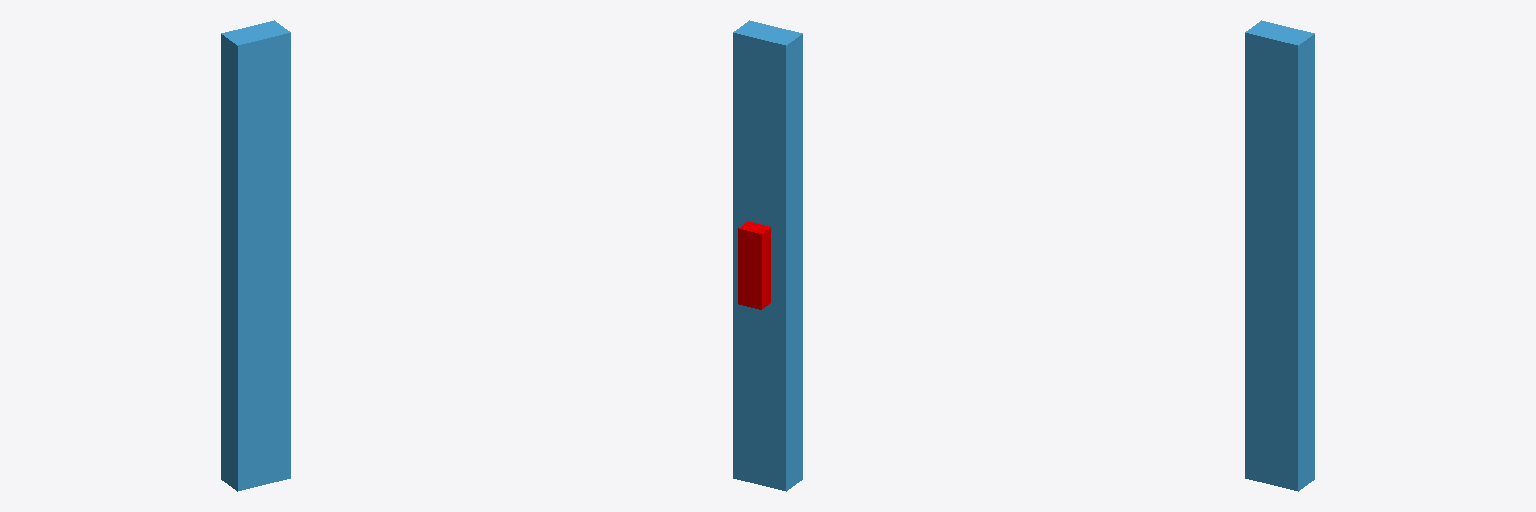
robot.urdf — knife:
<?xml version='1.0' encoding='utf-8'?>
<robot name="knife">
  <link name="link_1">
    <visual name="link_1">
      <origin xyz="0 0.007830 0" rpy="0 0 0" />
      <geometry>
        <box size="0.007959396628982467 0.005813232707844232 0.024876041222511008" /></geometry>
    <material name="red"><color rgba="1 0 0 1" /></material></visual>
    <collision>
      <origin xyz="0 0.007830 0" rpy="0 0 0" />
      <geometry>
        <box size="0.007959396628982467 0.005813232707844232 0.024876041222511008" /></geometry>
    </collision>
    </link>
  <joint name="joint_1" type="prismatic">
    <origin xyz="0 0 0" />
    <axis xyz="0 0 1" />
    <child link="link_1" />
    <parent link="link_0" />
    <limit lower="-0.040809" upper="0.009191" effort="100.0" velocity="1.0" />
  </joint>
  <link name="link_0">
    <visual name="link_0">
      <origin xyz="0 0 0" />
      <geometry>
        <box size="0.01836970978633367 0.009845867095504033 0.14614135792964242" /></geometry>
    </visual>
    <collision>
      <origin xyz="0 0 0" />
      <geometry>
        <box size="0.01836970978633367 0.009845867095504033 0.14614135792964242" /></geometry>
    </collision>
    </link>
</robot>

--- Render facts (derived) ---
3 views of the same robot in one strip: view 1: azimuth 30°, elevation 25°; view 2: azimuth 150°, elevation 25°; view 3: azimuth 330°, elevation 25° (orthographic).
Model knife with 2 links and 1 joints (1 prismatic), rooted at link_0, posed every joint at zero.
Links seen in each view (by area): view 1: link_0; view 2: link_0, link_1; view 3: link_0.
Boxes of the visible links, x1,y1,x2,y2 form: link_0: (221, 20, 290, 491); link_0: (733, 20, 802, 491); link_1: (738, 221, 770, 309); link_0: (1245, 20, 1314, 491).
Size in the robot's own frame: 0.0184 by 0.0157 by 0.1461 metres.
Geometry: primitives only (box / cylinder / sphere), no mesh files.
